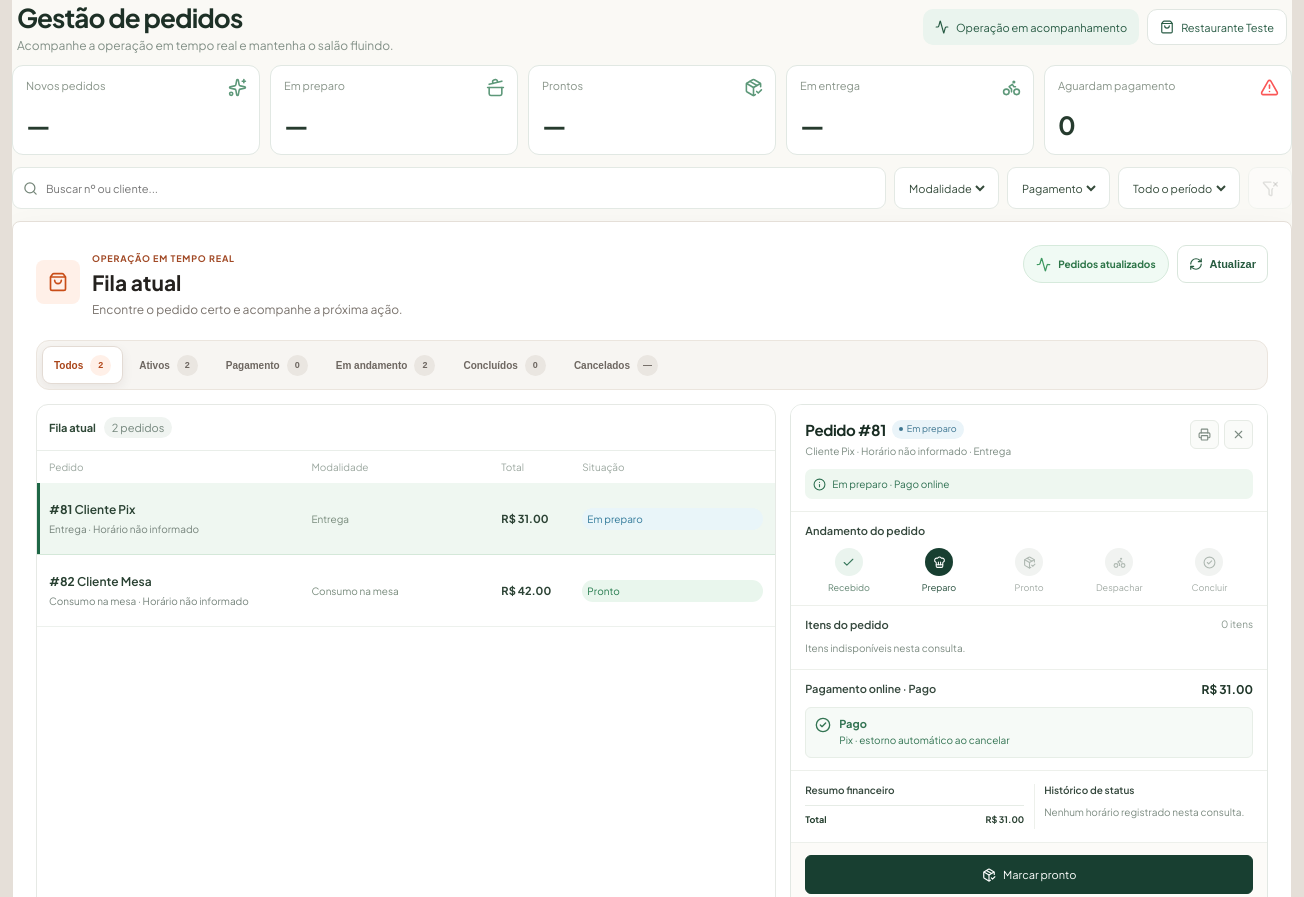
Scenario: AdminOrders: fechar, reabrir e imprimir sem mutação financeira › recolhe o painel, devolve o foco e reabre o mesmo pedido ou outro
What coordinates should you click on to do the following:
click the button named "Fechar detalhes do pedido"
I would click on:
 (1238, 434)
Its box is [1224,420,1253,449].
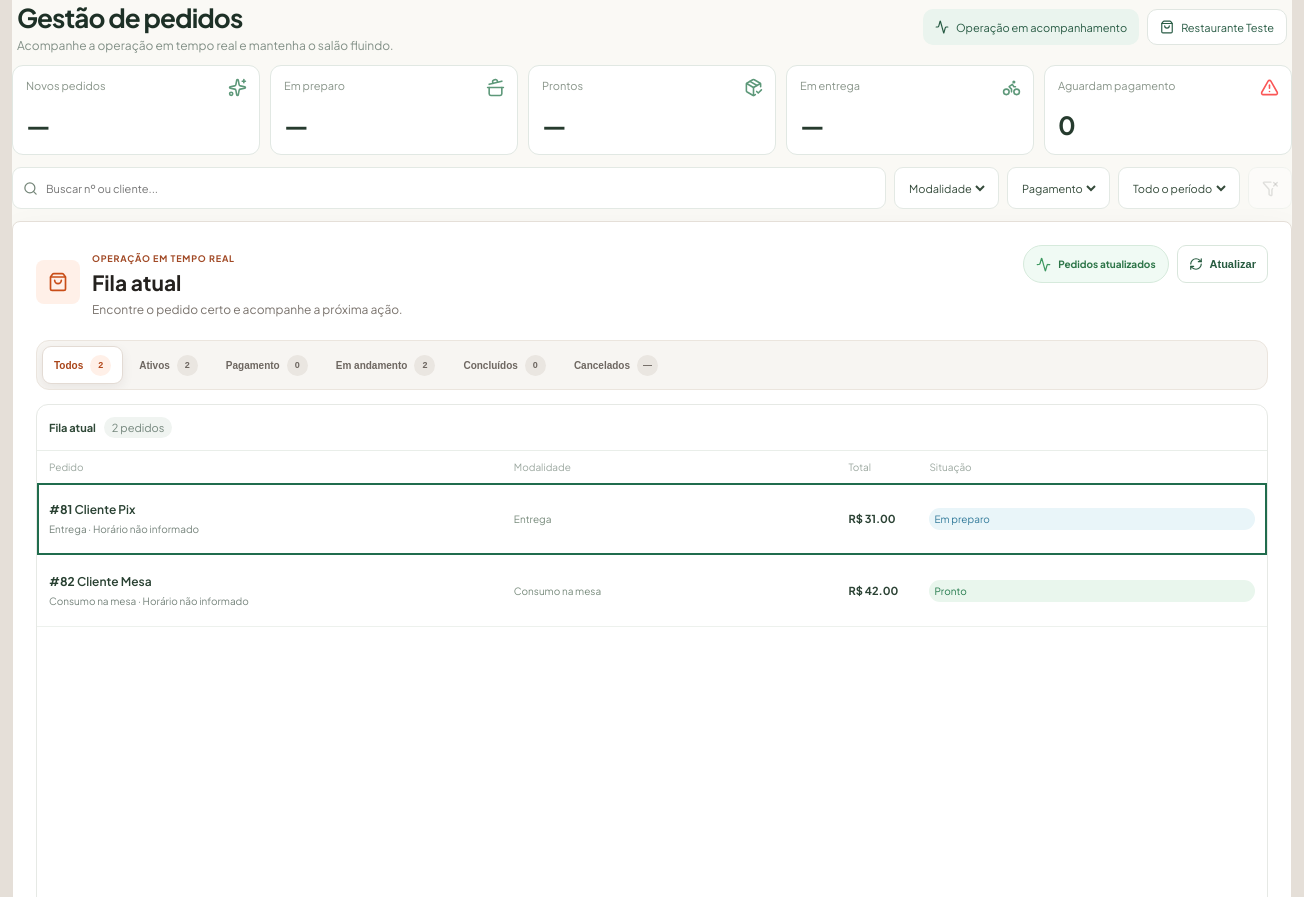
What coordinates should you click on to do the following:
click the button with aria-label "Ver detalhes do pedido #81 de Cliente Pix"
I would click on:
 (105, 509)
Its box is [37,483,1267,555].
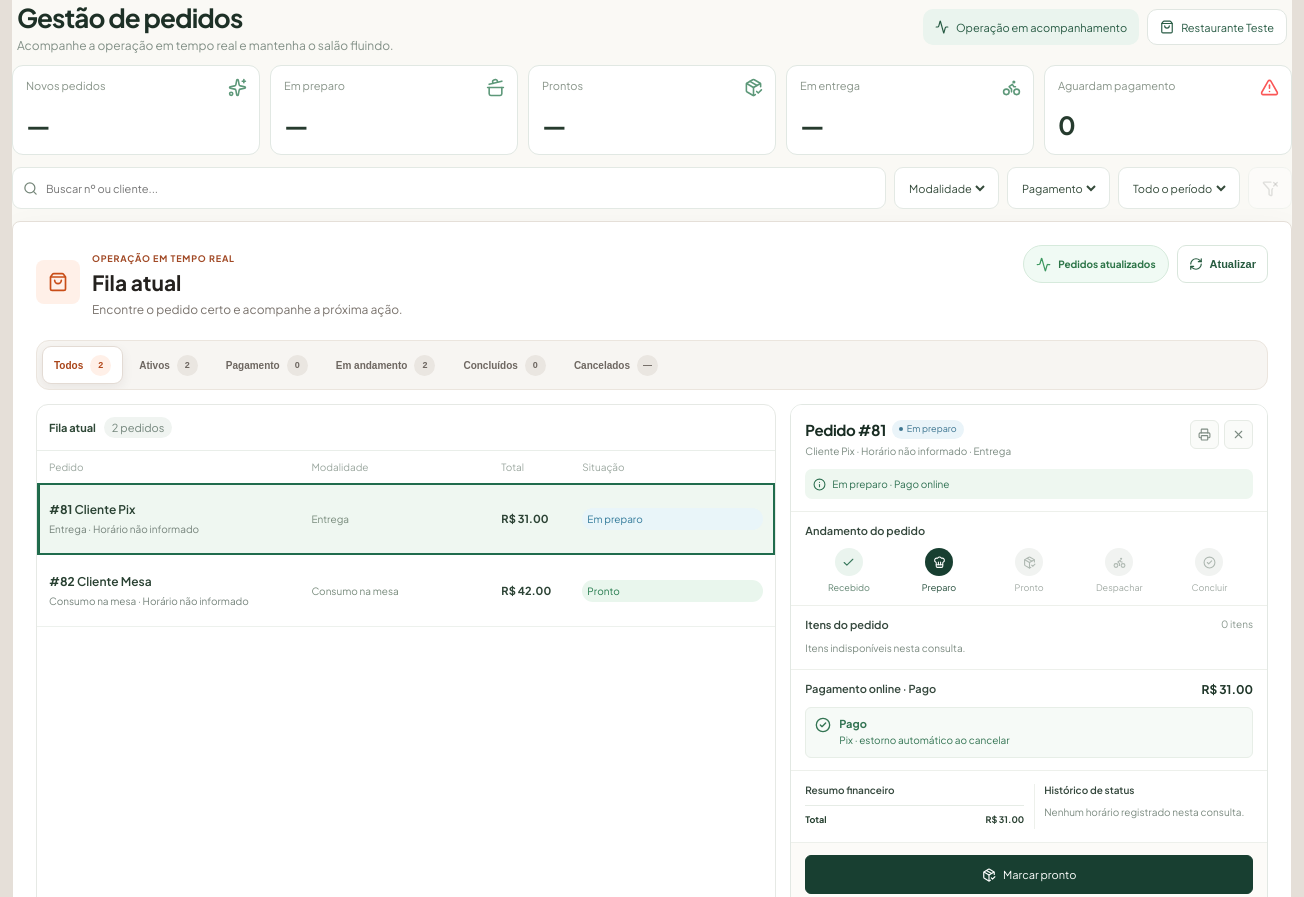
What coordinates should you click on to do the following:
click the button named "Fechar detalhes do pedido"
I would click on:
 (1238, 434)
Its box is [1224,420,1253,449].
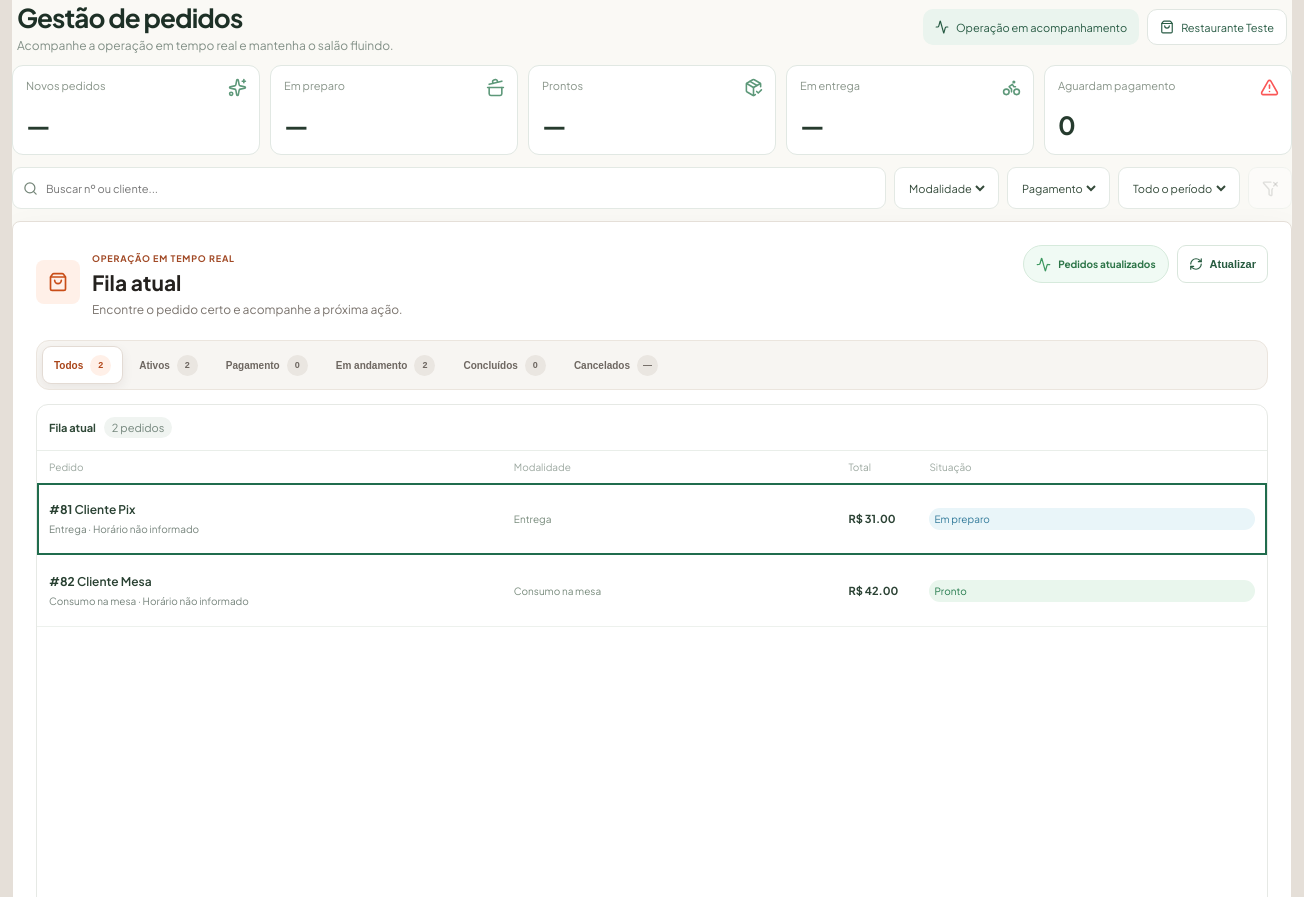
What coordinates should you click on to do the following:
click the button with aria-label "Ver detalhes do pedido #82 de Cliente Mesa"
I would click on:
 (114, 581)
Its box is [37,555,1267,627].
(page scrolled)
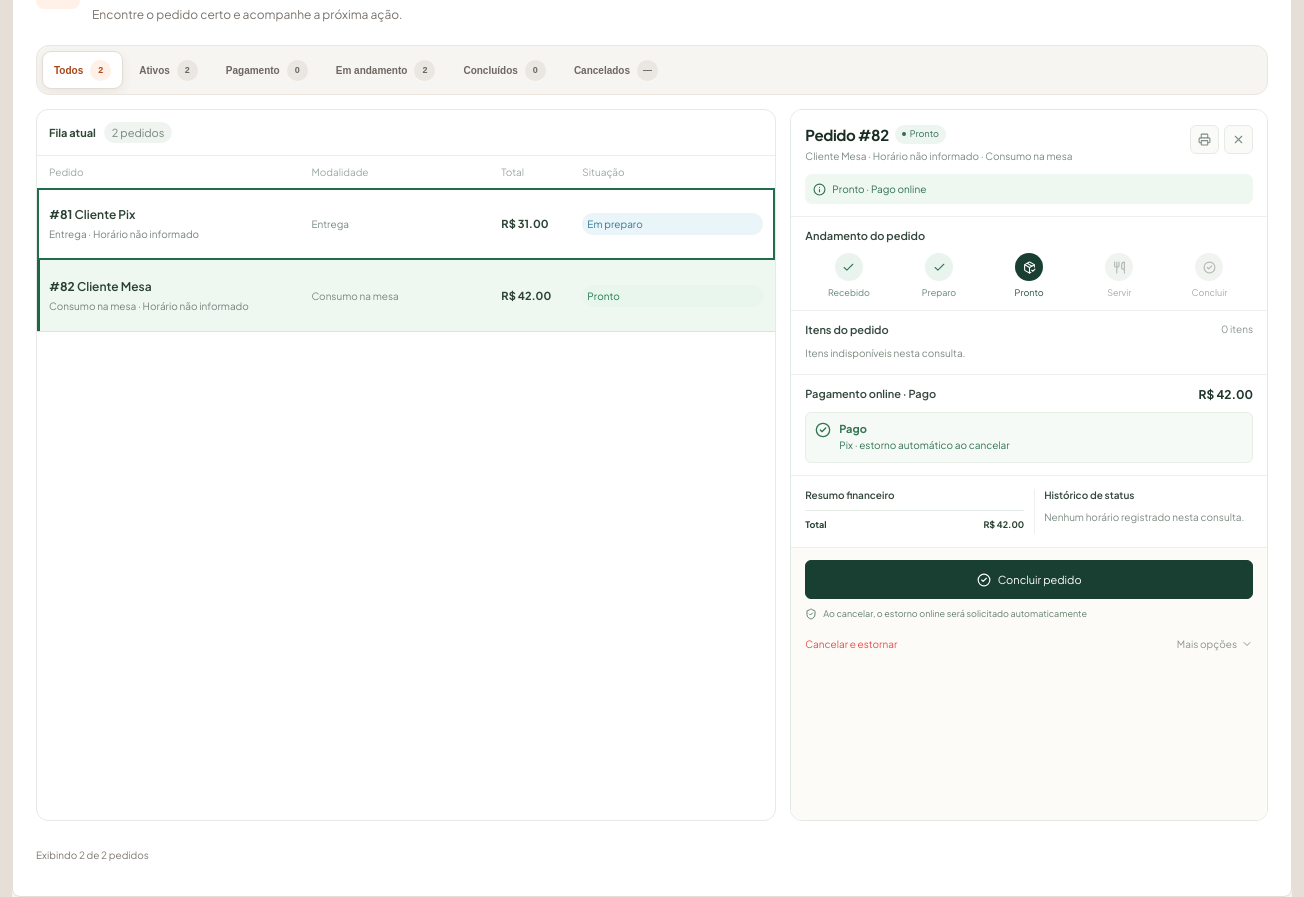
Expected: the heading with class "selected-order-detail" does not show "Pedido #81"
Now the element with class "selected-order-detail" shows "Pedido #82", box [790,109,1268,821]
